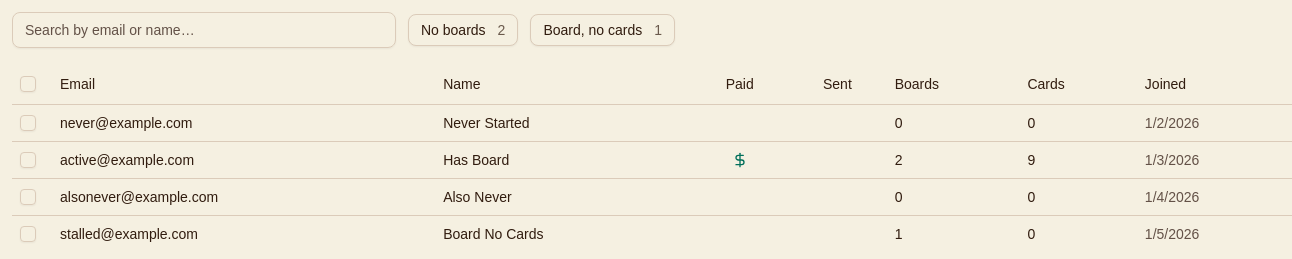
Test: UserSearch — no-boards filter › toggles back off and restores the full list
Click the button "No boards 2" at x=463, y=30, box 408,14 -> 518,46
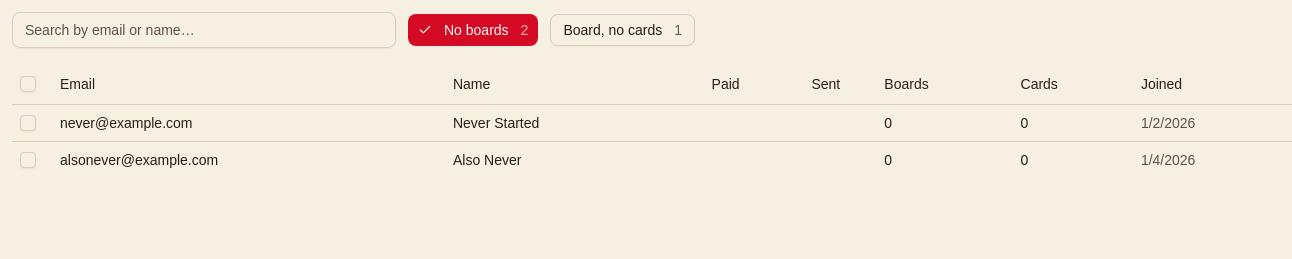
Click the button "No boards 2" at x=473, y=30, box 408,14 -> 538,46
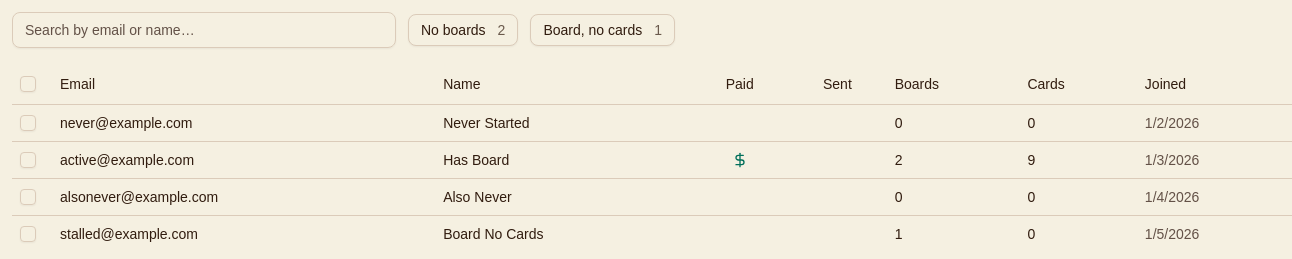
Now the link "active@example.com" is shown, box 60,152 -> 194,168
